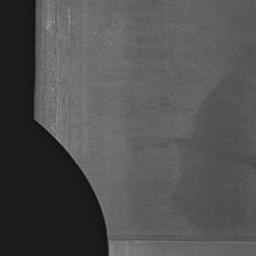Crescent gap: (37, 122, 108, 256)
